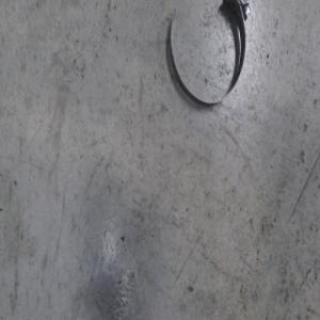AdjustableClamptrack_idkeyframe: (168, 0, 253, 107)
